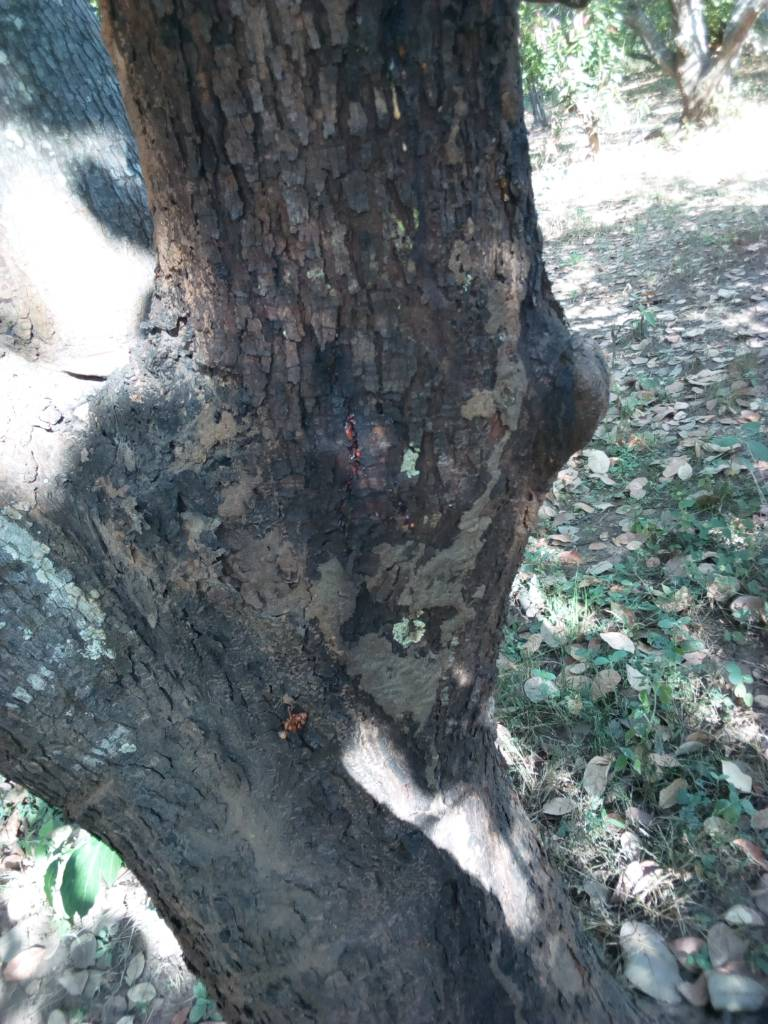Termites: (196, 744, 572, 1024)
